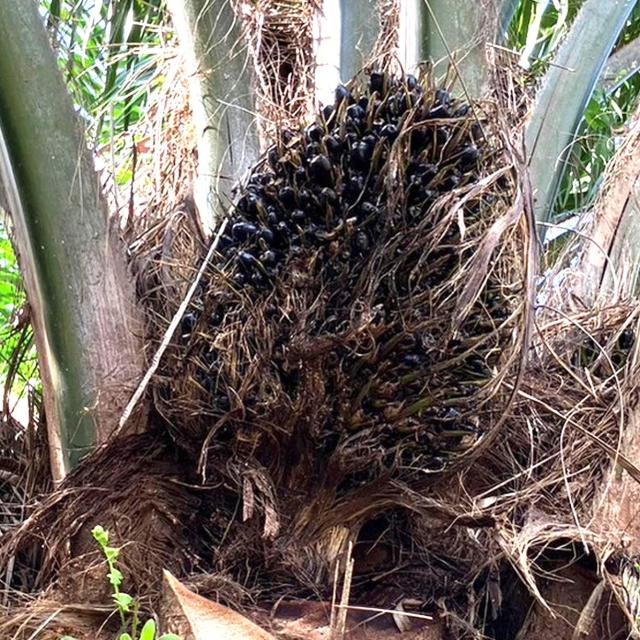unripe: (193, 62, 523, 478)
